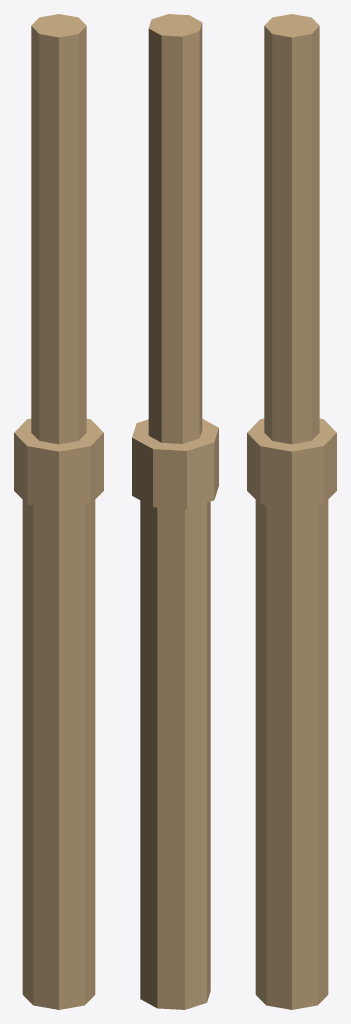
File: prop-drone-pipe-blank.fbx
The picture shows the model from 3 angles, left to right: view 1: azimuth 90°, elevation 25°; view 2: azimuth 150°, elevation 25°; view 3: azimuth 270°, elevation 25°; orthographic projection.
Visible parts, largest first — view 1: prop-drone-pipe-blank; view 2: prop-drone-pipe-blank; view 3: prop-drone-pipe-blank.
Boxes of the visible parts, x1,y1,x2,y2 form: prop-drone-pipe-blank: (14, 14, 103, 1009); prop-drone-pipe-blank: (132, 14, 218, 1009); prop-drone-pipe-blank: (247, 14, 336, 1009).
Bounding box in the file's own units: 4.2 × 50 × 4.2.
